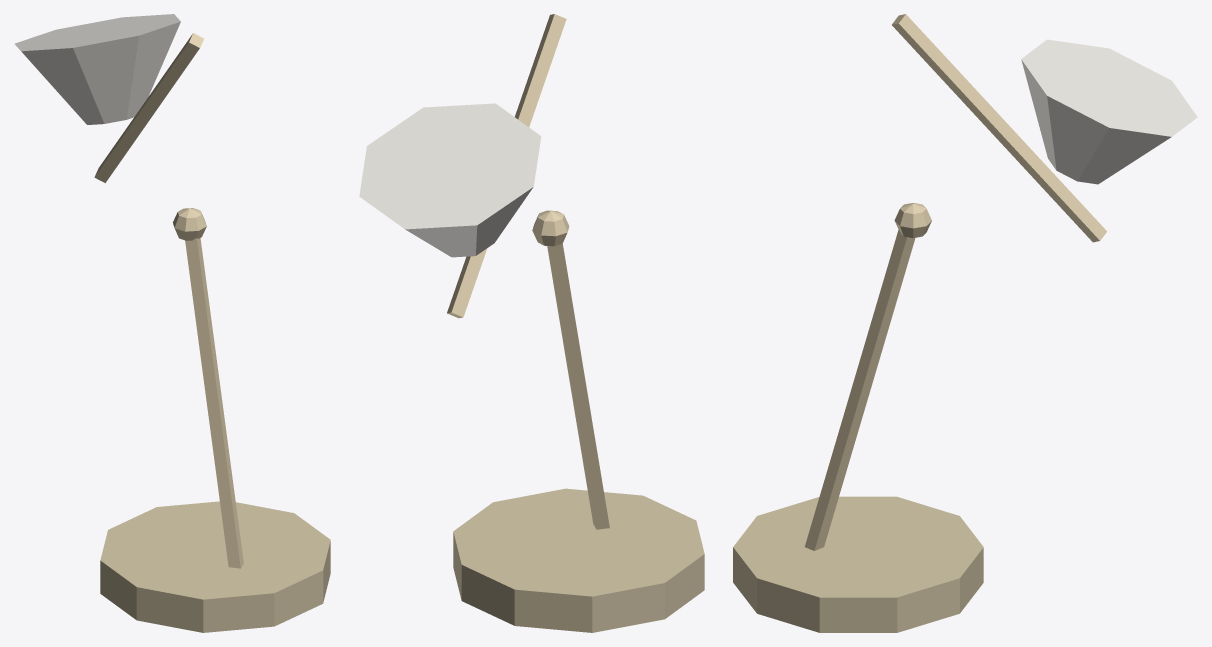
The model's file is desk_lamp.glb.
3 renders of one model, left to right at view 1: azimuth 30°, elevation 25°; view 2: azimuth 150°, elevation 25°; view 3: azimuth 270°, elevation 25°, orthographic. The views are drawn at different scales.
Parts seen in each view (by area): view 1: DeskLamp; view 2: DeskLamp; view 3: DeskLamp.
Boxes of the visible parts, box(x1,y1,x2,y2) form: DeskLamp: box(14, 14, 330, 632); DeskLamp: box(359, 14, 704, 632); DeskLamp: box(733, 14, 1197, 632).
Bounding box in the file's own units: 0.1522 × 0.4005 × 0.2966.
